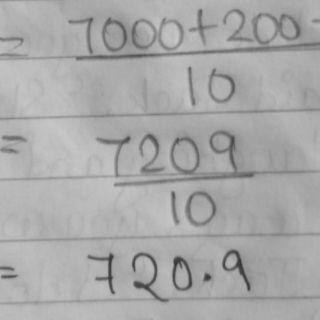.: (199, 268, 214, 283)
0: (182, 190, 218, 228), (169, 135, 202, 173), (206, 66, 238, 105), (99, 17, 128, 53), (156, 17, 186, 51), (169, 253, 195, 292), (130, 17, 158, 50)
1: (182, 61, 201, 110), (166, 188, 182, 228)
2: (130, 250, 169, 304), (138, 131, 167, 174), (221, 8, 253, 42)
7: (93, 129, 134, 176), (85, 249, 120, 297), (67, 15, 95, 53)
9: (221, 247, 256, 293), (208, 126, 240, 172)
